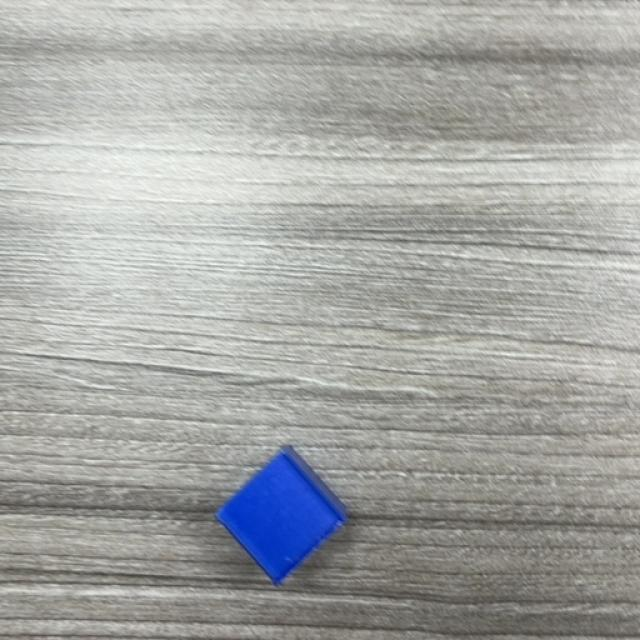Azul: (214, 448, 349, 586)
